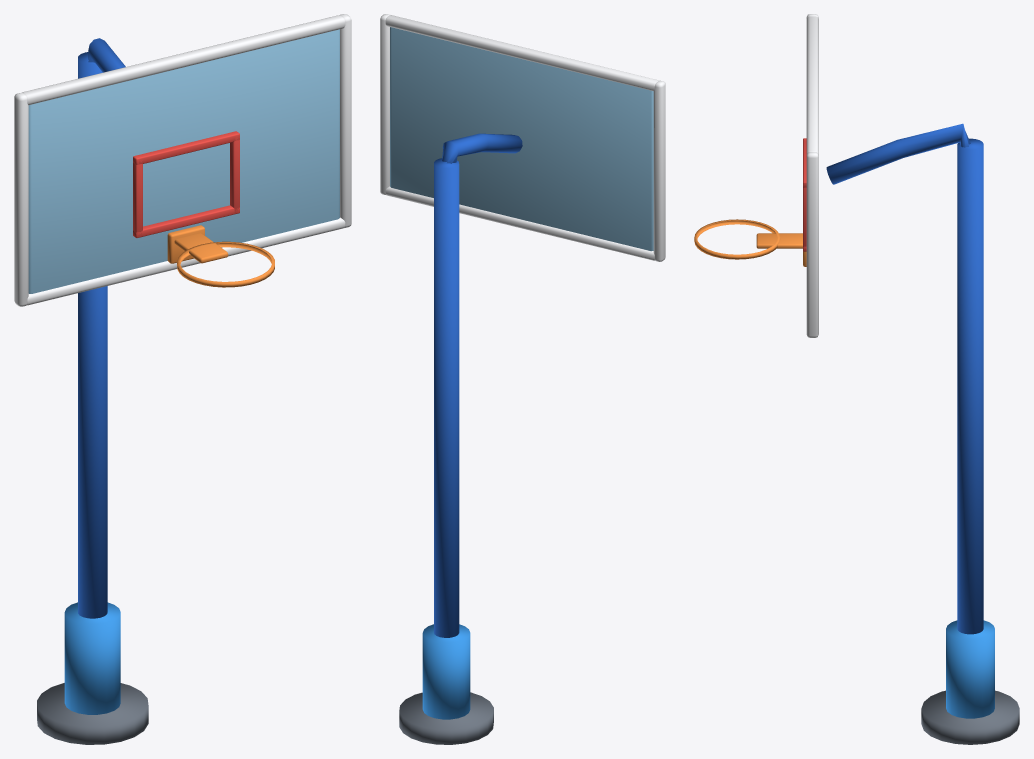
Rendered from hoop.glb.
3 renders of one model, left to right at view 1: azimuth 30°, elevation 25°; view 2: azimuth 150°, elevation 25°; view 3: azimuth 270°, elevation 25°, orthographic. The views are drawn at different scales.
Parts seen in each view (by area): view 1: hoop; view 2: hoop; view 3: hoop.
Part boxes in pixels (x1,y1,x2,y2): hoop: (14,14,351,744); hoop: (380,14,665,744); hoop: (694,14,1019,744).
Bounding box in the file's own units: 1.92 × 4.03 × 1.86.
